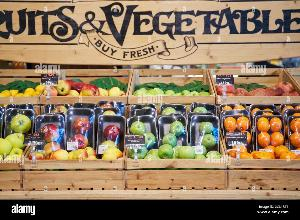apple: (35, 103, 134, 167), (126, 104, 214, 166), (42, 72, 128, 102), (132, 73, 210, 100), (0, 111, 40, 163)
lemon: (0, 70, 46, 98)
orange: (222, 102, 300, 160)
pomegranate: (216, 66, 298, 104)
